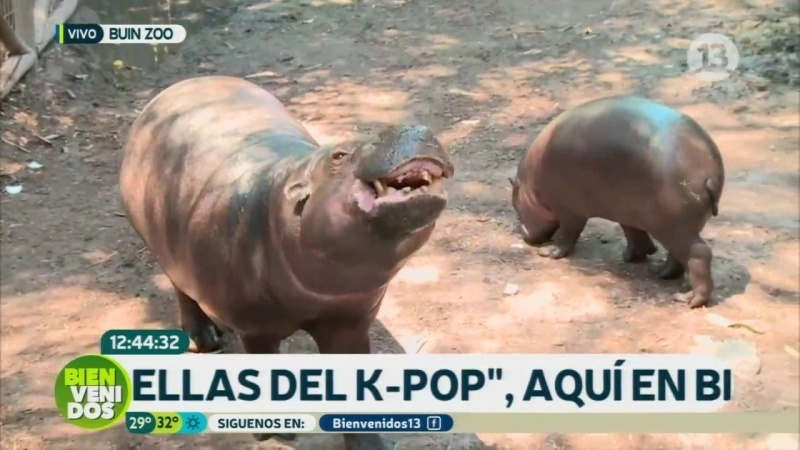hipopotamo: (107, 70, 467, 352), (488, 83, 761, 314)
